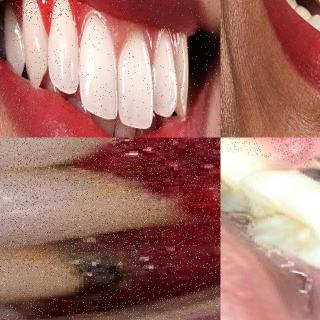Gum Swelling: (95, 138, 221, 300), (6, 0, 90, 36)
cavities: (45, 250, 136, 309), (220, 138, 246, 224)
